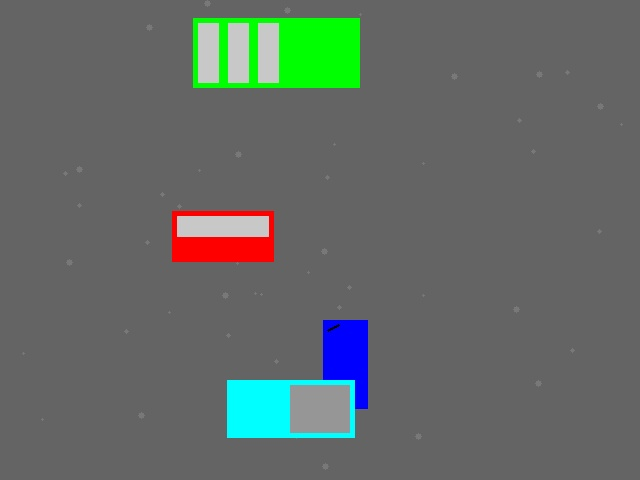bus: (193, 18, 359, 87)
car: (172, 211, 273, 261)
motorcycle: (323, 320, 367, 408)
truck: (227, 380, 354, 437)
